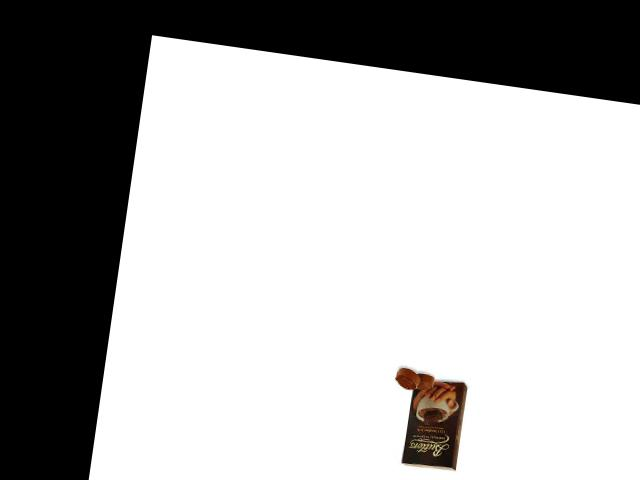chocolate: (393, 372, 472, 475)
